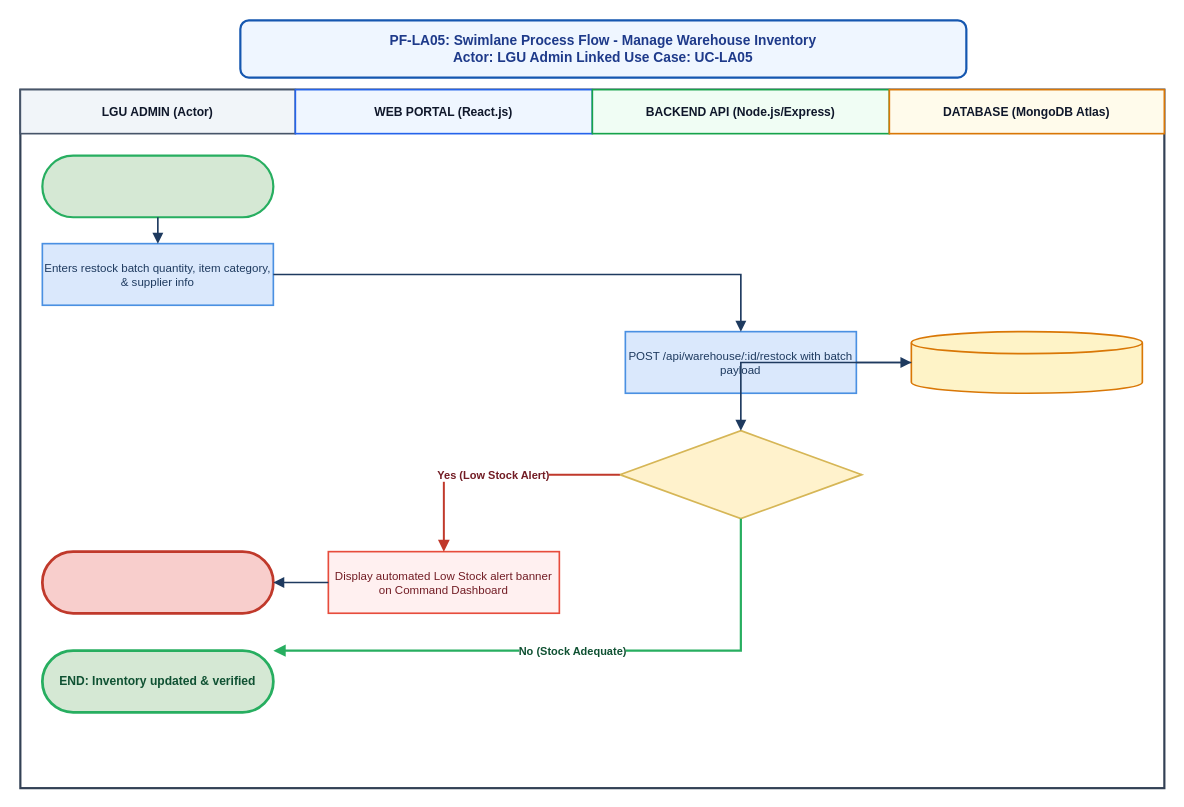
Some shapes in this 1184 by 807 pixel diagram are drawn without their labels. Here are the shapes that lost their labels. From the top down, the centre of each, then its label:
the point at 157,186: START: Opens Warehouse Inventory
the point at 1026,362: MongoDB: Updates WarehouseItem.quantity and logs WarehouseLog
the point at 740,474: Stock level below minimum buffer safety threshold?
the point at 157,582: END: Restock saved; buffer alert active
